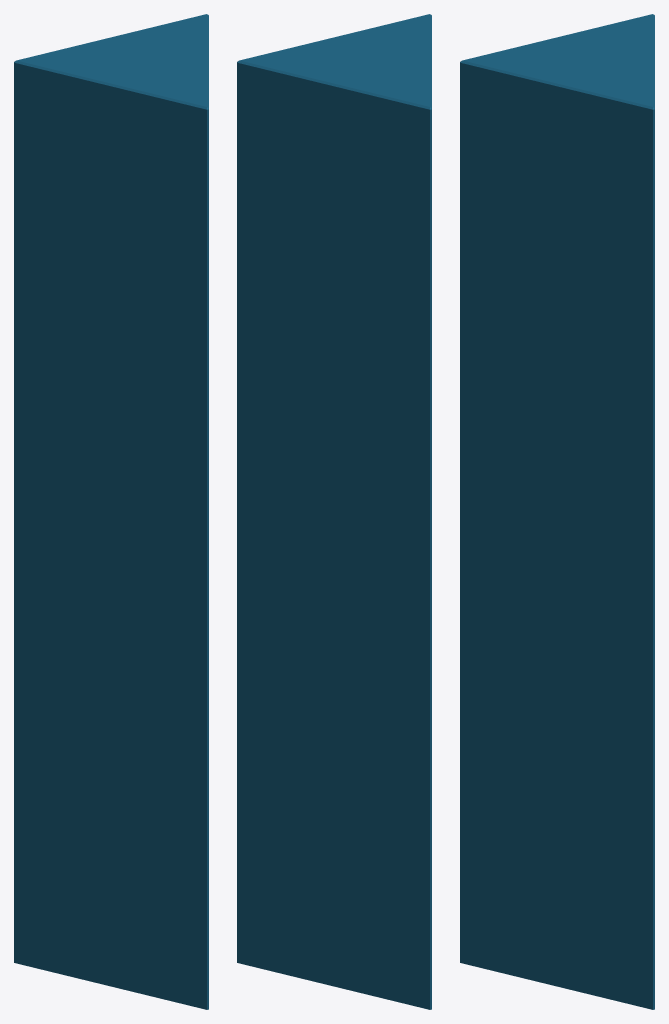
The model's file is Colonne_triangle.FBX.
3 renders of one model, left to right at view 1: azimuth 30°, elevation 25°; view 2: azimuth 150°, elevation 25°; view 3: azimuth 270°, elevation 25°, orthographic.
Parts seen in each view (by area): view 1: Line041; view 2: Line041; view 3: Line041.
Part boxes in pixels (<box>): Line041: <box>14,14,208,1009</box>; Line041: <box>237,14,431,1009</box>; Line041: <box>460,14,654,1009</box>.
Bounding box in the file's own units: 22.77 × 101 × 19.72.
